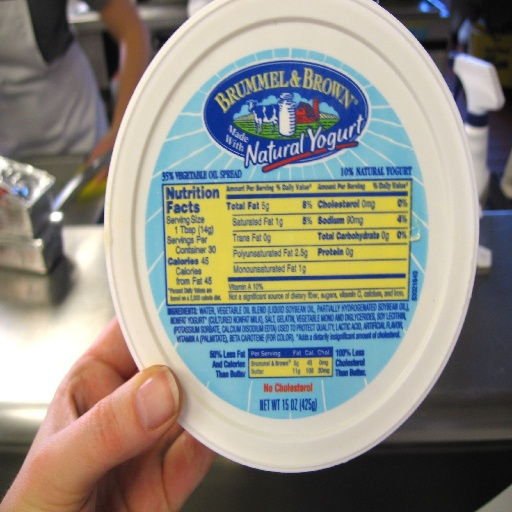hand: (0, 312, 217, 511), (84, 135, 114, 181)
